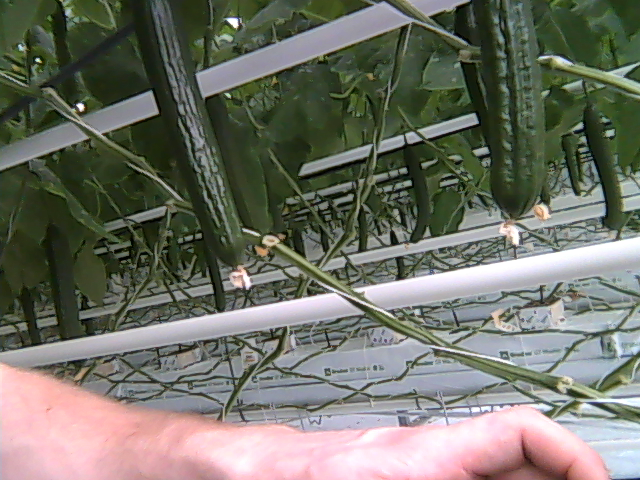concombre: (117, 1, 258, 293), (469, 1, 553, 247)
